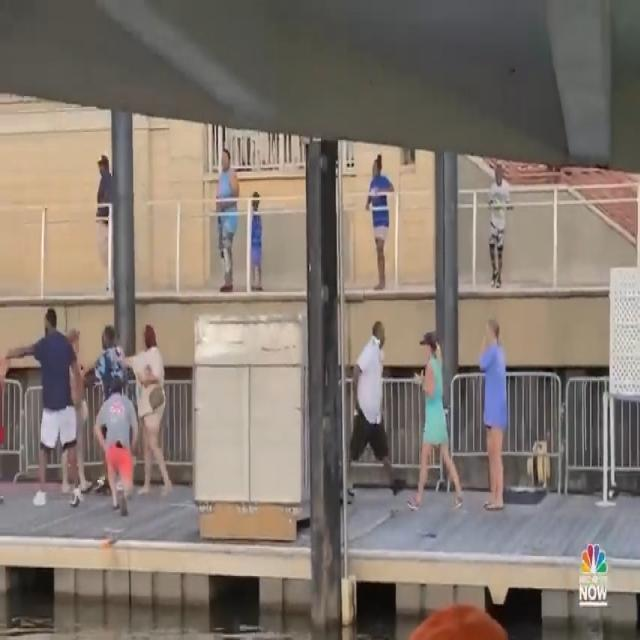fight: (68, 310, 138, 513)
non-fight: (349, 319, 514, 521)
